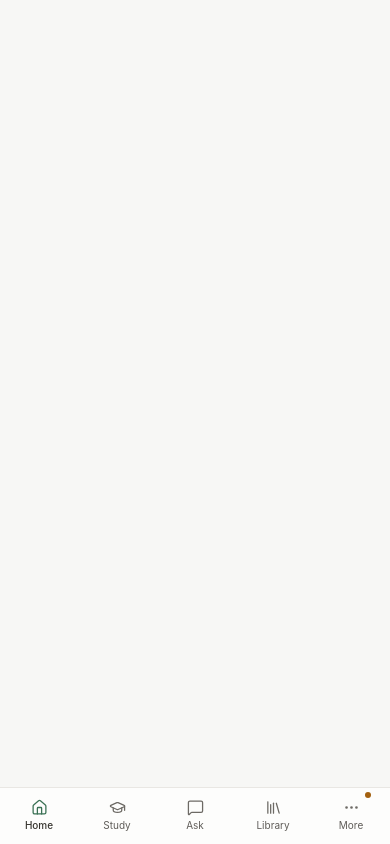
Test: MobileNav › includes Admin in the More sheet for admins
The image size is (390, 844).
Click the button "More".
click(351, 816)  # box [312,788,389,843]
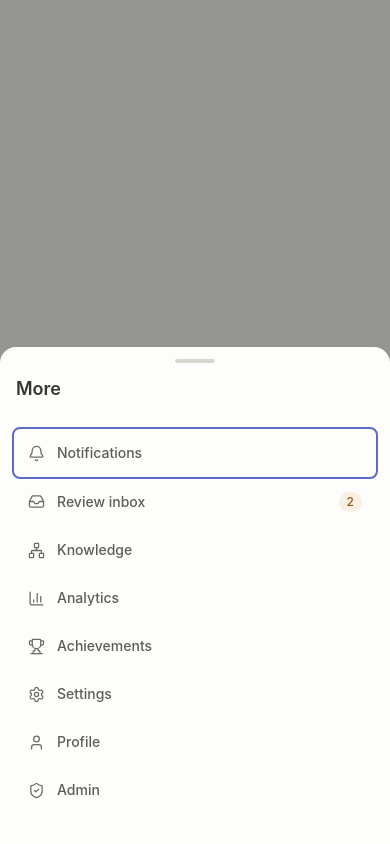
Now the link "Admin" is shown, box [28,781,100,798]
